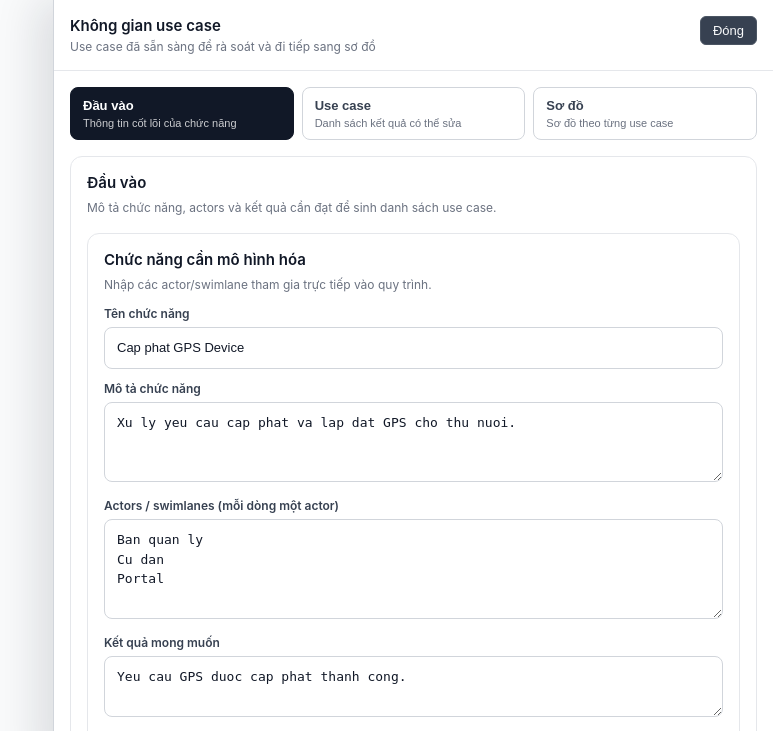
Test: UseCasePanel › demotes an approved use case when edited after approval
The image size is (773, 731).
Click the button "Use case Danh sách kết quả có thể sửa" at (414, 114), box top-left (302, 87), bottom-right (525, 140)
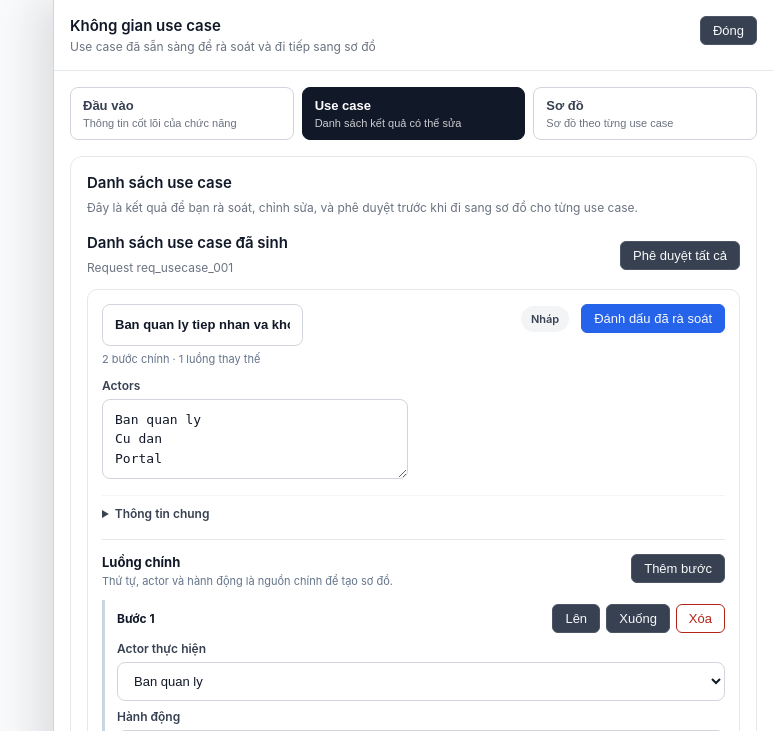
Click the button "Đánh dấu đã rà soát" at (653, 319), box top-left (581, 304), bottom-right (725, 333)
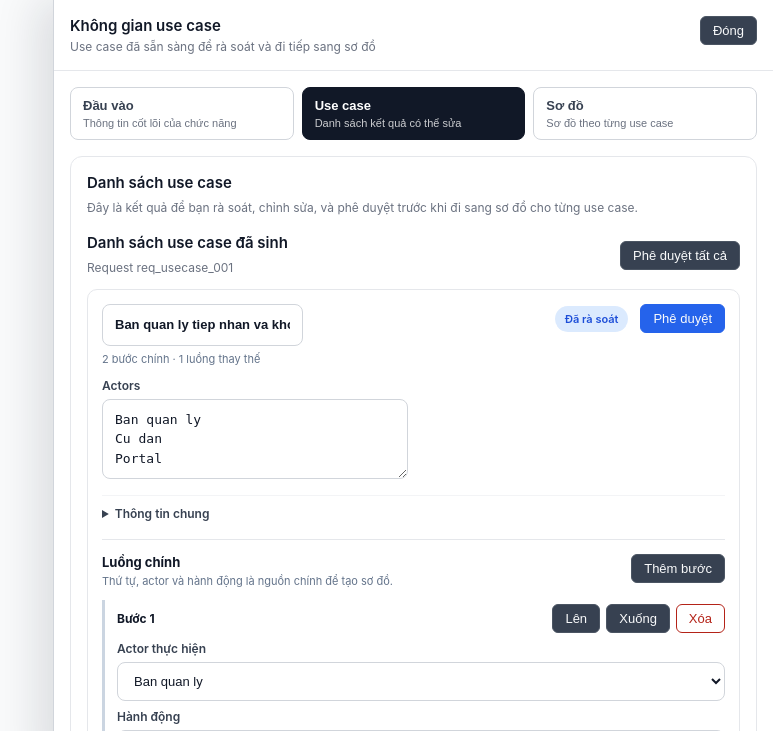
Click the button "Phê duyệt" at (683, 319), box top-left (640, 304), bottom-right (725, 333)
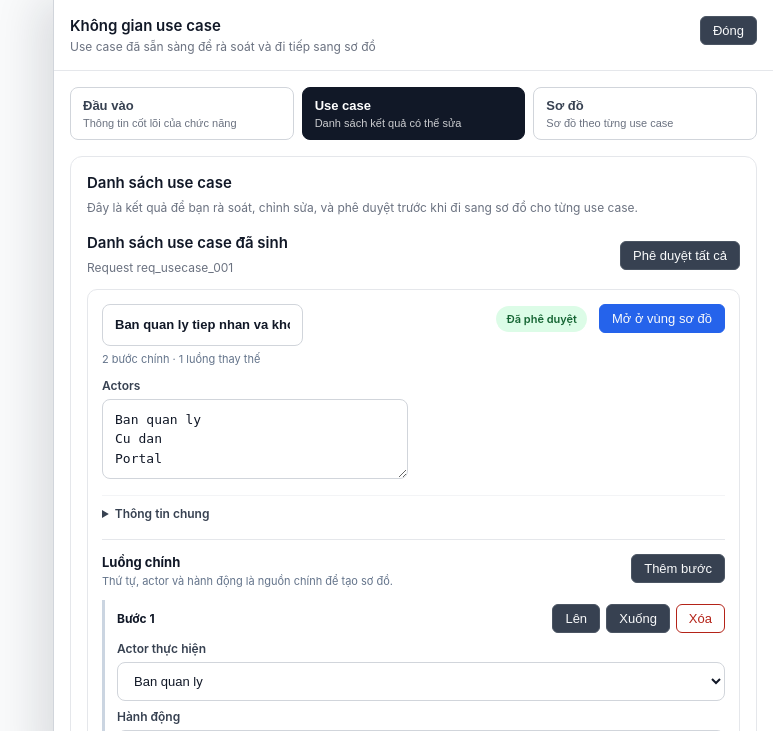
Replace the text in the field showing "Ban quan ly tiep nhan va khoi tao xu ly Cap phat GPS Device" with "Ban quan ly tiep nhan va xu ly yeu cau GPS da sua" at (202, 325), box top-left (102, 304), bottom-right (303, 346)
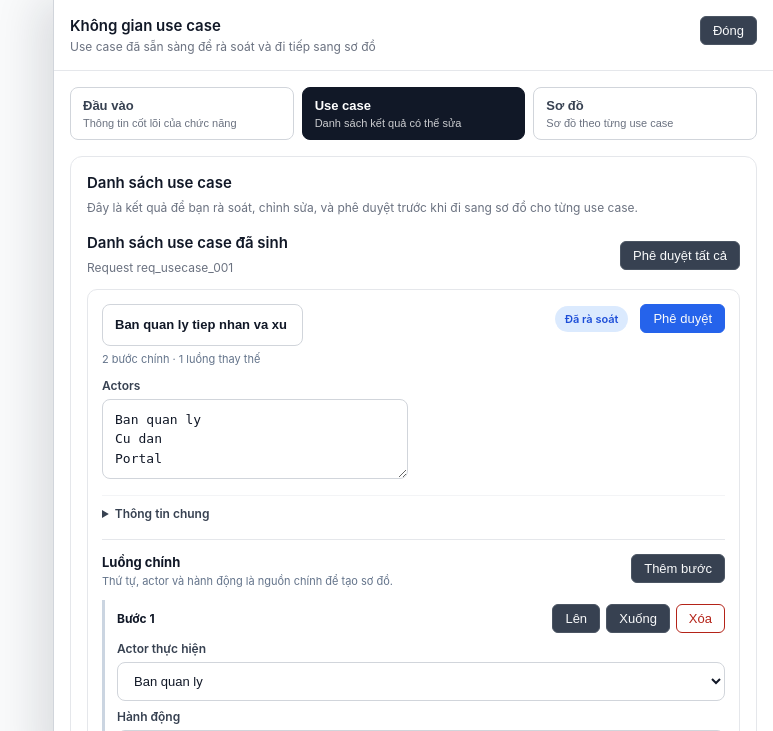
Now the text "Đã rà soát" is shown, box top-left (555, 306), bottom-right (628, 332)
Now the button "Phê duyệt" is shown, box top-left (640, 304), bottom-right (725, 333)
Click the button "Sơ đồ Sơ đồ theo từng use case" at (645, 114), box top-left (533, 87), bottom-right (757, 140)
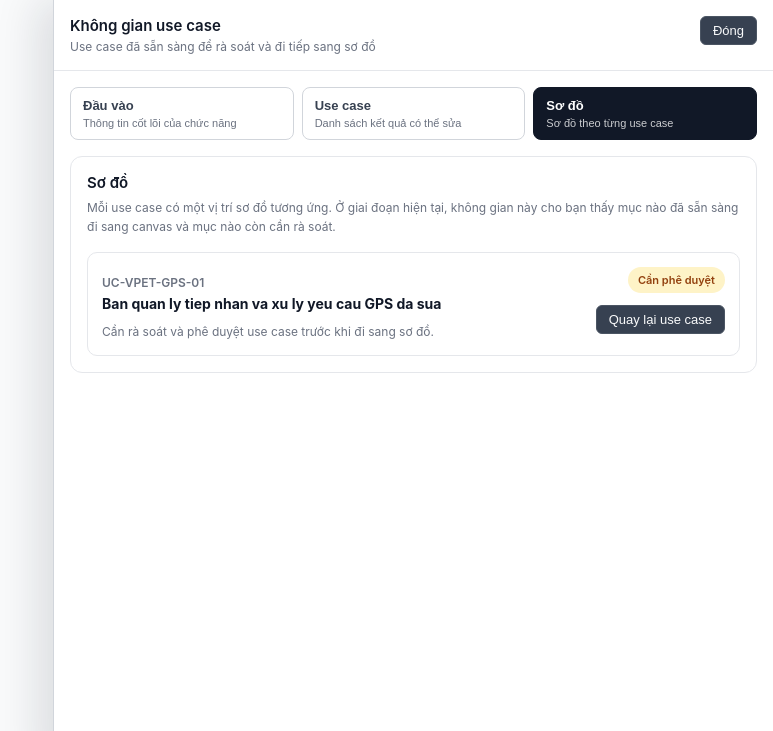
Now the text "Cần phê duyệt" is shown, box top-left (628, 267), bottom-right (725, 293)
Now the button "Quay lại use case" is shown, box top-left (596, 305), bottom-right (725, 334)
